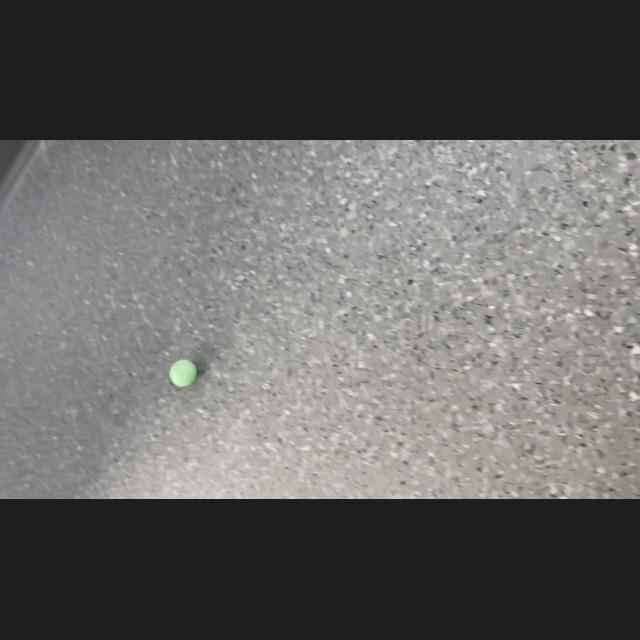objects: (164, 354, 202, 392)
